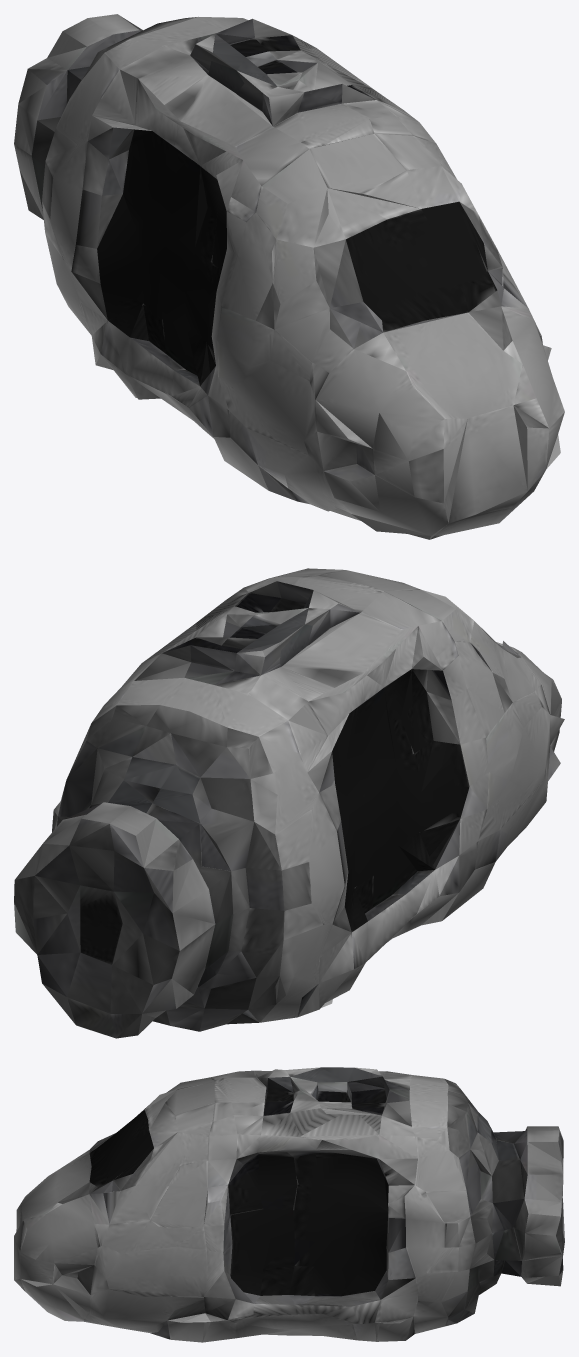
File: shared_escape_pod_lod2.glb
3 renders of one model, top to bottom at view 1: azimuth 30°, elevation 25°; view 2: azimuth 150°, elevation 25°; view 3: azimuth 270°, elevation 25°, orthographic. The views are drawn at different scales.
Visible parts, largest first — view 1: mesh_node; view 2: mesh_node; view 3: mesh_node.
Boxes of the visible parts, x1,y1,x2,y2 form: mesh_node: (14,14,564,539); mesh_node: (14,568,564,1038); mesh_node: (14,1067,564,1342).
Size of the model in its own units: 1.85 by 2.39 by 4.81.
Materials: 1 (1 with a texture image).
